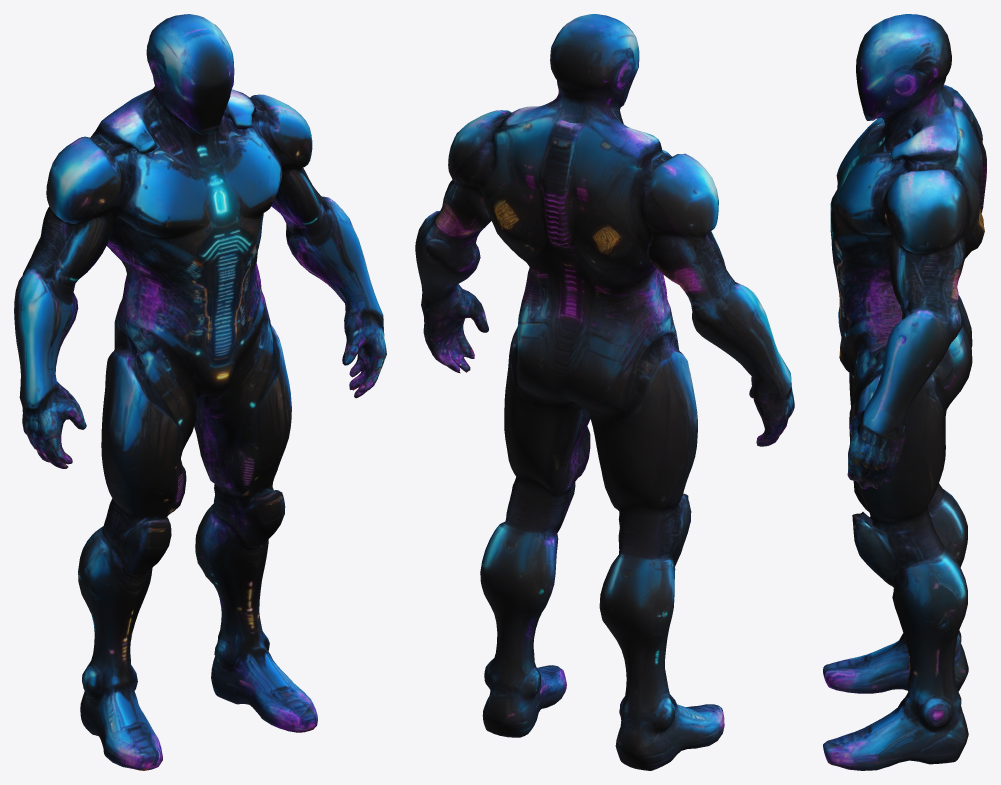
File: futuristic_soldier.glb
3 renders of one model, left to right at view 1: azimuth 30°, elevation 25°; view 2: azimuth 150°, elevation 25°; view 3: azimuth 270°, elevation 25°, orthographic.
Parts seen in each view (by area): view 1: Mesh1_Mesh1.055; view 2: Mesh1_Mesh1.055; view 3: Mesh1_Mesh1.055.
Boxes of the visible parts, box(x1,y1,x2,y2) form: Mesh1_Mesh1.055: box(14, 14, 386, 770); Mesh1_Mesh1.055: box(415, 14, 794, 770); Mesh1_Mesh1.055: box(823, 14, 986, 770).
Size of the model in its own units: 1.06 by 2 by 0.421.
1 material, 1 textured.
